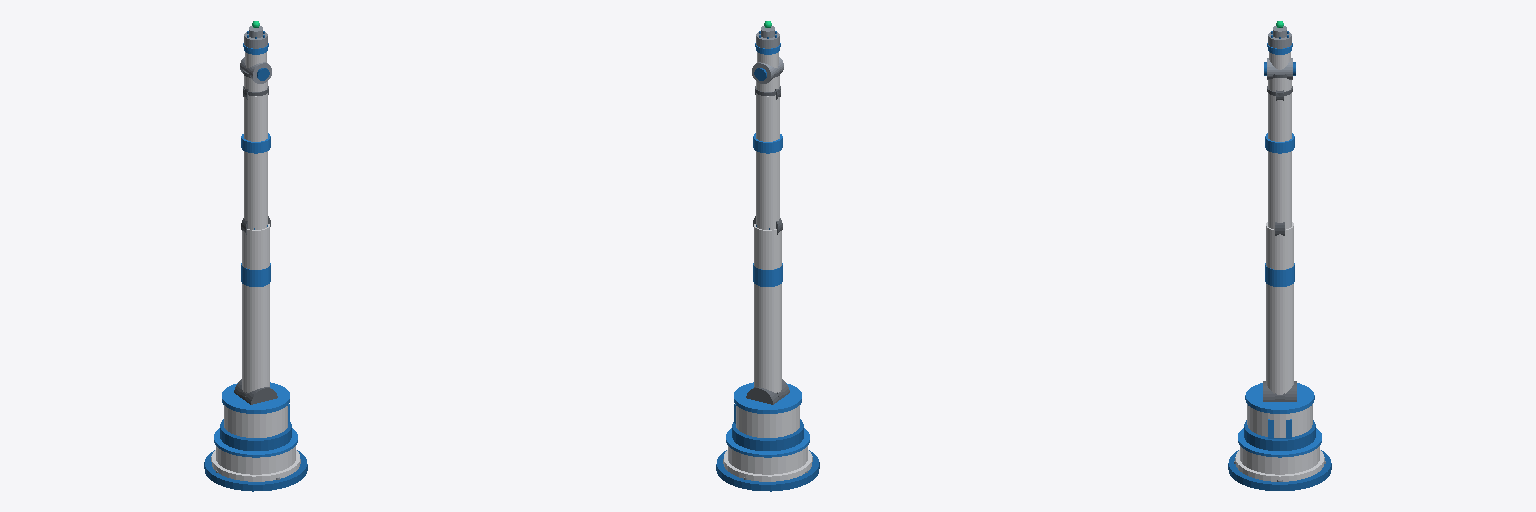
robot.urdf — jaka_zu18:
<?xml version="1.0" encoding="utf-8"?>
<robot name="jaka_zu18">
  <!-- JAKA Zu 18 — procedurally generated by orolp.robot_library.urdf_builder (payload 18 kg, reach 1073 mm, 6 DOF, repeatability ±0.03 mm). Appearance: 44 primitives in 'cobot' style (primary/accent/metal/dark 4-role palette). No vendor CAD assets. Parameters verified=True. -->
  <link name="base_link">
    <visual>
      <origin xyz="0 0 0.009657" rpy="0 0 0"/>
      <geometry>
        <cylinder radius="0.135312" length="0.019314"/>
      </geometry>
      <material name="base_link_mat_0">
        <color rgba="0.17 0.4675 0.7225 1"/>
      </material>
    </visual>
    <visual>
      <origin xyz="0 0 0.02704" rpy="0 0 0"/>
      <geometry>
        <cylinder radius="0.116964" length="0.015451"/>
      </geometry>
      <material name="base_link_mat_1">
        <color rgba="0.86 0.87 0.89 1"/>
      </material>
    </visual>
    <visual>
      <origin xyz="0 0 0.061805" rpy="0 0 0"/>
      <geometry>
        <cylinder radius="0.105497" length="0.054079"/>
      </geometry>
      <material name="base_link_mat_2">
        <color rgba="0.86 0.87 0.89 1"/>
      </material>
    </visual>
    <visual>
      <origin xyz="0 0 0.090776" rpy="0 0 0"/>
      <geometry>
        <cylinder radius="0.111231" length="0.007726"/>
      </geometry>
      <material name="base_link_mat_3">
        <color rgba="0.2 0.55 0.85 1"/>
      </material>
    </visual>
    <visual>
      <origin xyz="0.112378 0 0.01352" rpy="0 0 0"/>
      <geometry>
        <cylinder radius="0.008027" length="0.021245"/>
      </geometry>
      <material name="base_link_mat_4">
        <color rgba="0.6 0.63 0.67 1"/>
      </material>
    </visual>
    <visual>
      <origin xyz="0 0.112378 0.01352" rpy="0 0 0"/>
      <geometry>
        <cylinder radius="0.008027" length="0.021245"/>
      </geometry>
      <material name="base_link_mat_5">
        <color rgba="0.6 0.63 0.67 1"/>
      </material>
    </visual>
    <visual>
      <origin xyz="-0.112378 0 0.01352" rpy="0 0 0"/>
      <geometry>
        <cylinder radius="0.008027" length="0.021245"/>
      </geometry>
      <material name="base_link_mat_6">
        <color rgba="0.6 0.63 0.67 1"/>
      </material>
    </visual>
    <visual>
      <origin xyz="0.0 -0.112378 0.01352" rpy="0 0 0"/>
      <geometry>
        <cylinder radius="0.008027" length="0.021245"/>
      </geometry>
      <material name="base_link_mat_7">
        <color rgba="0.6 0.63 0.67 1"/>
      </material>
    </visual>
    <collision>
      <origin xyz="0 0 0.048285" rpy="0 0 0"/>
      <geometry>
        <cylinder radius="0.114671" length="0.09657"/>
      </geometry>
    </collision>
  </link>
  <joint name="joint_1" type="revolute">
    <parent link="base_link"/>
    <child link="link_1"/>
    <origin xyz="0 0 0.09657" rpy="0 0 0"/>
    <axis xyz="0 0 1"/>
    <limit lower="-6.283185" upper="6.283185" effort="148" velocity="2.094395"/>
  </joint>
  <link name="link_1">
    <visual>
      <origin xyz="0 0 0.015344" rpy="0 0 0"/>
      <geometry>
        <cylinder radius="0.094104" length="0.030688"/>
      </geometry>
      <material name="link_1_mat_0">
        <color rgba="0.17 0.4675 0.7225 1"/>
      </material>
    </visual>
    <visual>
      <origin xyz="0 0 0.070818" rpy="0 0 0"/>
      <geometry>
        <cylinder radius="0.085226" length="0.073179"/>
      </geometry>
      <material name="link_1_mat_1">
        <color rgba="0.86 0.87 0.89 1"/>
      </material>
    </visual>
    <visual>
      <origin xyz="0 0 0.112128" rpy="0 0 0"/>
      <geometry>
        <cylinder radius="0.090553" length="0.011803"/>
      </geometry>
      <material name="link_1_mat_2">
        <color rgba="0.2 0.55 0.85 1"/>
      </material>
    </visual>
    <visual>
      <origin xyz="0 0 0.114489" rpy="1.570796 0 0"/>
      <geometry>
        <cylinder radius="0.04143" length="0.087298"/>
      </geometry>
      <material name="link_1_mat_3">
        <color rgba="0.432 0.4536 0.4824 1"/>
      </material>
    </visual>
    <visual>
      <origin xyz="0.0799 0 0.056654" rpy="0 0 0"/>
      <geometry>
        <box size="0.007398 0.063624 0.059015"/>
      </geometry>
      <material name="link_1_mat_4">
        <color rgba="0.2 0.55 0.85 1"/>
      </material>
    </visual>
    <collision>
      <origin xyz="0 0 0.059015" rpy="0 0 0"/>
      <geometry>
        <cylinder radius="0.088778" length="0.11803"/>
      </geometry>
    </collision>
  </link>
  <joint name="joint_2" type="revolute">
    <parent link="link_1"/>
    <child link="link_2"/>
    <origin xyz="0 0 0.11803" rpy="0 0 0"/>
    <axis xyz="0 1 0"/>
    <limit lower="-1.48353" upper="4.625123" effort="148" velocity="2.094395"/>
  </joint>
  <link name="link_2">
    <visual>
      <origin xyz="0 0 0.24679" rpy="0 0 0"/>
      <geometry>
        <cylinder radius="0.036991" length="0.49358"/>
      </geometry>
      <material name="link_2_mat_0">
        <color rgba="0.86 0.87 0.89 1"/>
      </material>
    </visual>
    <visual>
      <origin xyz="0 0 0" rpy="1.570796 0 0"/>
      <geometry>
        <cylinder radius="0.04143" length="0.025154"/>
      </geometry>
      <material name="link_2_mat_1">
        <color rgba="0.432 0.4536 0.4824 1"/>
      </material>
    </visual>
    <visual>
      <origin xyz="0 0 0.49358" rpy="1.570796 0 0"/>
      <geometry>
        <cylinder radius="0.03847" length="0.023674"/>
      </geometry>
      <material name="link_2_mat_2">
        <color rgba="0.432 0.4536 0.4824 1"/>
      </material>
    </visual>
    <visual>
      <origin xyz="0 0.022194 0" rpy="1.570796 0 0"/>
      <geometry>
        <cylinder radius="0.022194" length="0.011837"/>
      </geometry>
      <material name="link_2_mat_3">
        <color rgba="0.17 0.4675 0.7225 1"/>
      </material>
    </visual>
    <visual>
      <origin xyz="0 -0.022194 0" rpy="1.570796 0 0"/>
      <geometry>
        <cylinder radius="0.022194" length="0.011837"/>
      </geometry>
      <material name="link_2_mat_4">
        <color rgba="0.17 0.4675 0.7225 1"/>
      </material>
    </visual>
    <visual>
      <origin xyz="0 0.020715 0.49358" rpy="1.570796 0 0"/>
      <geometry>
        <cylinder radius="0.020715" length="0.011837"/>
      </geometry>
      <material name="link_2_mat_5">
        <color rgba="0.17 0.4675 0.7225 1"/>
      </material>
    </visual>
    <visual>
      <origin xyz="0 -0.020715 0.49358" rpy="1.570796 0 0"/>
      <geometry>
        <cylinder radius="0.020715" length="0.011837"/>
      </geometry>
      <material name="link_2_mat_6">
        <color rgba="0.17 0.4675 0.7225 1"/>
      </material>
    </visual>
    <visual>
      <origin xyz="0 0 0.355378" rpy="0 0 0"/>
      <geometry>
        <cylinder radius="0.03847" length="0.049358"/>
      </geometry>
      <material name="link_2_mat_7">
        <color rgba="0.2 0.55 0.85 1"/>
      </material>
    </visual>
    <collision>
      <origin xyz="0 0 0.24679" rpy="0 0 0"/>
      <geometry>
        <box size="0.073981 0.060665 0.49358"/>
      </geometry>
    </collision>
  </link>
  <joint name="joint_3" type="revolute">
    <parent link="link_2"/>
    <child link="link_3"/>
    <origin xyz="0 0 0.49358" rpy="0 0 0"/>
    <axis xyz="0 1 0"/>
    <limit lower="-3.054326" upper="3.054326" effort="148" velocity="3.141593"/>
  </joint>
  <link name="link_3">
    <visual>
      <origin xyz="0 0 0.19314" rpy="0 0 0"/>
      <geometry>
        <cylinder radius="0.032552" length="0.38628"/>
      </geometry>
      <material name="link_3_mat_0">
        <color rgba="0.86 0.87 0.89 1"/>
      </material>
    </visual>
    <visual>
      <origin xyz="0 0 0" rpy="1.570796 0 0"/>
      <geometry>
        <cylinder radius="0.03847" length="0.023674"/>
      </geometry>
      <material name="link_3_mat_1">
        <color rgba="0.432 0.4536 0.4824 1"/>
      </material>
    </visual>
    <visual>
      <origin xyz="0 0 0.38628" rpy="1.570796 0 0"/>
      <geometry>
        <cylinder radius="0.034031" length="0.022194"/>
      </geometry>
      <material name="link_3_mat_2">
        <color rgba="0.432 0.4536 0.4824 1"/>
      </material>
    </visual>
    <visual>
      <origin xyz="0 0 0.239494" rpy="0 0 0"/>
      <geometry>
        <cylinder radius="0.03847" length="0.030902"/>
      </geometry>
      <material name="link_3_mat_3">
        <color rgba="0.2 0.55 0.85 1"/>
      </material>
    </visual>
    <visual>
      <origin xyz="0 0 0.370829" rpy="0 0 0"/>
      <geometry>
        <cylinder radius="0.029593" length="0.016276"/>
      </geometry>
      <material name="link_3_mat_4">
        <color rgba="0.6 0.63 0.67 1"/>
      </material>
    </visual>
    <collision>
      <origin xyz="0 0 0.19314" rpy="0 0 0"/>
      <geometry>
        <box size="0.069542 0.057025 0.38628"/>
      </geometry>
    </collision>
  </link>
  <joint name="joint_4" type="revolute">
    <parent link="link_3"/>
    <child link="link_4"/>
    <origin xyz="0 0 0.38628" rpy="0 0 0"/>
    <axis xyz="0 0 1"/>
    <limit lower="-1.48353" upper="4.625123" effort="148" velocity="3.141593"/>
  </joint>
  <link name="link_4">
    <visual>
      <origin xyz="0 0 0.03219" rpy="0 0 0"/>
      <geometry>
        <cylinder radius="0.031072" length="0.060517"/>
      </geometry>
      <material name="link_4_mat_0">
        <color rgba="0.86 0.87 0.89 1"/>
      </material>
    </visual>
    <visual>
      <origin xyz="0 0 0.006438" rpy="0 0 0"/>
      <geometry>
        <cylinder radius="0.034031" length="0.010301"/>
      </geometry>
      <material name="link_4_mat_1">
        <color rgba="0.432 0.4536 0.4824 1"/>
      </material>
    </visual>
    <visual>
      <origin xyz="0 0 0.057942" rpy="0 0 0"/>
      <geometry>
        <cylinder radius="0.034031" length="0.010301"/>
      </geometry>
      <material name="link_4_mat_2">
        <color rgba="0.432 0.4536 0.4824 1"/>
      </material>
    </visual>
    <collision>
      <origin xyz="0 0 0.03219" rpy="0 0 0"/>
      <geometry>
        <cylinder radius="0.032552" length="0.06438"/>
      </geometry>
    </collision>
  </link>
  <joint name="joint_5" type="revolute">
    <parent link="link_4"/>
    <child link="link_5"/>
    <origin xyz="0 0 0.06438" rpy="0 0 0"/>
    <axis xyz="0 1 0"/>
    <limit lower="-6.283185" upper="6.283185" effort="148" velocity="3.141593"/>
  </joint>
  <link name="link_5">
    <visual>
      <origin xyz="0 0 0" rpy="1.570796 0 0"/>
      <geometry>
        <cylinder radius="0.029593" length="0.068063"/>
      </geometry>
      <material name="link_5_mat_0">
        <color rgba="0.6 0.63 0.67 1"/>
      </material>
    </visual>
    <visual>
      <origin xyz="0 0 0.028971" rpy="0 0 0"/>
      <geometry>
        <cylinder radius="0.028113" length="0.055367"/>
      </geometry>
      <material name="link_5_mat_1">
        <color rgba="0.86 0.87 0.89 1"/>
      </material>
    </visual>
    <visual>
      <origin xyz="0 0 0.060517" rpy="0 0 0"/>
      <geometry>
        <cylinder radius="0.031072" length="0.010301"/>
      </geometry>
      <material name="link_5_mat_2">
        <color rgba="0.2 0.55 0.85 1"/>
      </material>
    </visual>
    <visual>
      <origin xyz="0 0.036991 0" rpy="1.570796 0 0"/>
      <geometry>
        <cylinder radius="0.017756" length="0.007398"/>
      </geometry>
      <material name="link_5_mat_3">
        <color rgba="0.17 0.4675 0.7225 1"/>
      </material>
    </visual>
    <visual>
      <origin xyz="0 -0.036991 0" rpy="1.570796 0 0"/>
      <geometry>
        <cylinder radius="0.017756" length="0.007398"/>
      </geometry>
      <material name="link_5_mat_4">
        <color rgba="0.17 0.4675 0.7225 1"/>
      </material>
    </visual>
    <collision>
      <origin xyz="0 0 0.03219" rpy="0 0 0"/>
      <geometry>
        <box size="0.062884 0.051565 0.06438"/>
      </geometry>
    </collision>
  </link>
  <joint name="joint_6" type="revolute">
    <parent link="link_5"/>
    <child link="tool0"/>
    <origin xyz="0 0 0.06438" rpy="0 0 0"/>
    <axis xyz="0 0 1"/>
    <limit lower="-6.283185" upper="6.283185" effort="148" velocity="3.141593"/>
  </joint>
  <link name="tool0">
    <visual>
      <origin xyz="0 0 0.016739" rpy="0 0 0"/>
      <geometry>
        <cylinder radius="0.031072" length="0.033478"/>
      </geometry>
      <material name="tool0_mat_0">
        <color rgba="0.6 0.63 0.67 1"/>
      </material>
    </visual>
    <visual>
      <origin xyz="0 0 0.043135" rpy="0 0 0"/>
      <geometry>
        <cylinder radius="0.019265" length="0.019314"/>
      </geometry>
      <material name="tool0_mat_1">
        <color rgba="0.6 0.63 0.67 1"/>
      </material>
    </visual>
    <visual>
      <origin xyz="0 0 0.004507" rpy="0 0 0"/>
      <geometry>
        <cylinder radius="0.032936" length="0.009013"/>
      </geometry>
      <material name="tool0_mat_2">
        <color rgba="0.2 0.55 0.85 1"/>
      </material>
    </visual>
    <visual>
      <origin xyz="0.024236 0 0.03219" rpy="0 0 0"/>
      <geometry>
        <cylinder radius="0.002796" length="0.014164"/>
      </geometry>
      <material name="tool0_mat_3">
        <color rgba="0.17 0.4675 0.7225 1"/>
      </material>
    </visual>
    <visual>
      <origin xyz="0.012118 0.020989 0.03219" rpy="0 0 0"/>
      <geometry>
        <cylinder radius="0.002796" length="0.014164"/>
      </geometry>
      <material name="tool0_mat_4">
        <color rgba="0.17 0.4675 0.7225 1"/>
      </material>
    </visual>
    <visual>
      <origin xyz="-0.012118 0.020989 0.03219" rpy="0 0 0"/>
      <geometry>
        <cylinder radius="0.002796" length="0.014164"/>
      </geometry>
      <material name="tool0_mat_5">
        <color rgba="0.17 0.4675 0.7225 1"/>
      </material>
    </visual>
    <visual>
      <origin xyz="-0.024236 0 0.03219" rpy="0 0 0"/>
      <geometry>
        <cylinder radius="0.002796" length="0.014164"/>
      </geometry>
      <material name="tool0_mat_6">
        <color rgba="0.17 0.4675 0.7225 1"/>
      </material>
    </visual>
    <visual>
      <origin xyz="-0.012118 -0.020989 0.03219" rpy="0 0 0"/>
      <geometry>
        <cylinder radius="0.002796" length="0.014164"/>
      </geometry>
      <material name="tool0_mat_7">
        <color rgba="0.17 0.4675 0.7225 1"/>
      </material>
    </visual>
    <visual>
      <origin xyz="0.012118 -0.020989 0.03219" rpy="0 0 0"/>
      <geometry>
        <cylinder radius="0.002796" length="0.014164"/>
      </geometry>
      <material name="tool0_mat_8">
        <color rgba="0.17 0.4675 0.7225 1"/>
      </material>
    </visual>
    <collision>
      <origin xyz="0 0 0.03219" rpy="0 0 0"/>
      <geometry>
        <cylinder radius="0.031072" length="0.06438"/>
      </geometry>
    </collision>
  </link>
  <link name="tcp">
    <visual>
      <origin xyz="0 0 0" rpy="0 0 0"/>
      <geometry>
        <sphere radius="0.010565"/>
      </geometry>
      <material name="tcp_mat">
        <color rgba="0.15 0.85 0.55 1"/>
      </material>
    </visual>
  </link>
  <joint name="tcp_joint" type="fixed">
    <parent link="tool0"/>
    <child link="tcp"/>
    <origin xyz="0 0 0.06438" rpy="0 0 0"/>
  </joint>
</robot>

--- Render facts (derived) ---
The picture shows the robot from 3 angles, left to right: view 1: azimuth 30°, elevation 25°; view 2: azimuth 150°, elevation 25°; view 3: azimuth 270°, elevation 25°; orthographic projection.
Model jaka_zu18 with 8 links and 7 joints (6 revolute, 1 fixed), rooted at base_link, posed every joint at zero.
Visible links, largest first — view 1: link_2, link_1, base_link, link_3, link_5, tool0; view 2: link_2, link_1, base_link, link_3, link_5, tool0; view 3: link_2, link_1, base_link, link_3, link_5, tool0.
Boxes of the visible links, x1,y1,x2,y2 form: link_2: (240, 216, 270, 399); link_1: (220, 379, 291, 450); base_link: (204, 428, 307, 491); link_3: (241, 87, 270, 229); link_5: (240, 49, 271, 83); tool0: (243, 26, 268, 51); link_2: (753, 216, 783, 399); link_1: (732, 379, 803, 450); base_link: (716, 428, 819, 491); link_3: (753, 87, 782, 229); link_5: (752, 49, 783, 83); tool0: (755, 26, 780, 51); link_2: (1265, 222, 1294, 401); link_1: (1244, 381, 1315, 450); base_link: (1228, 428, 1331, 490); link_3: (1265, 90, 1294, 229); link_5: (1264, 49, 1295, 79); tool0: (1267, 26, 1292, 51).
Bounding box of the posed robot: 0.2706 × 0.2706 × 1.3 m (x, y, z).
Geometry: primitives only (box / cylinder / sphere), no mesh files.
